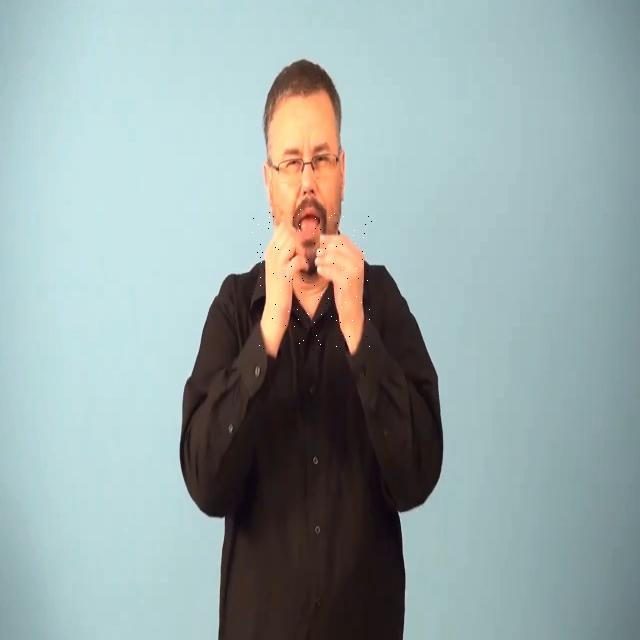juicy: (250, 209, 372, 350)
